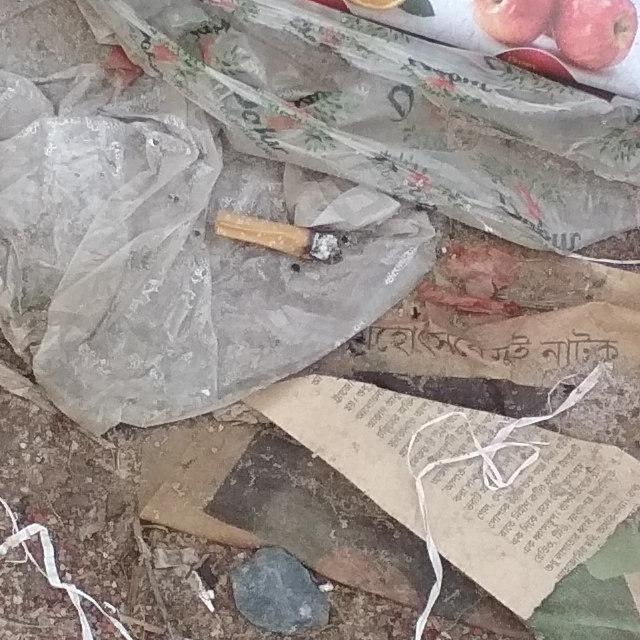paper: (333, 203, 640, 640), (168, 0, 640, 238), (255, 348, 640, 629)
